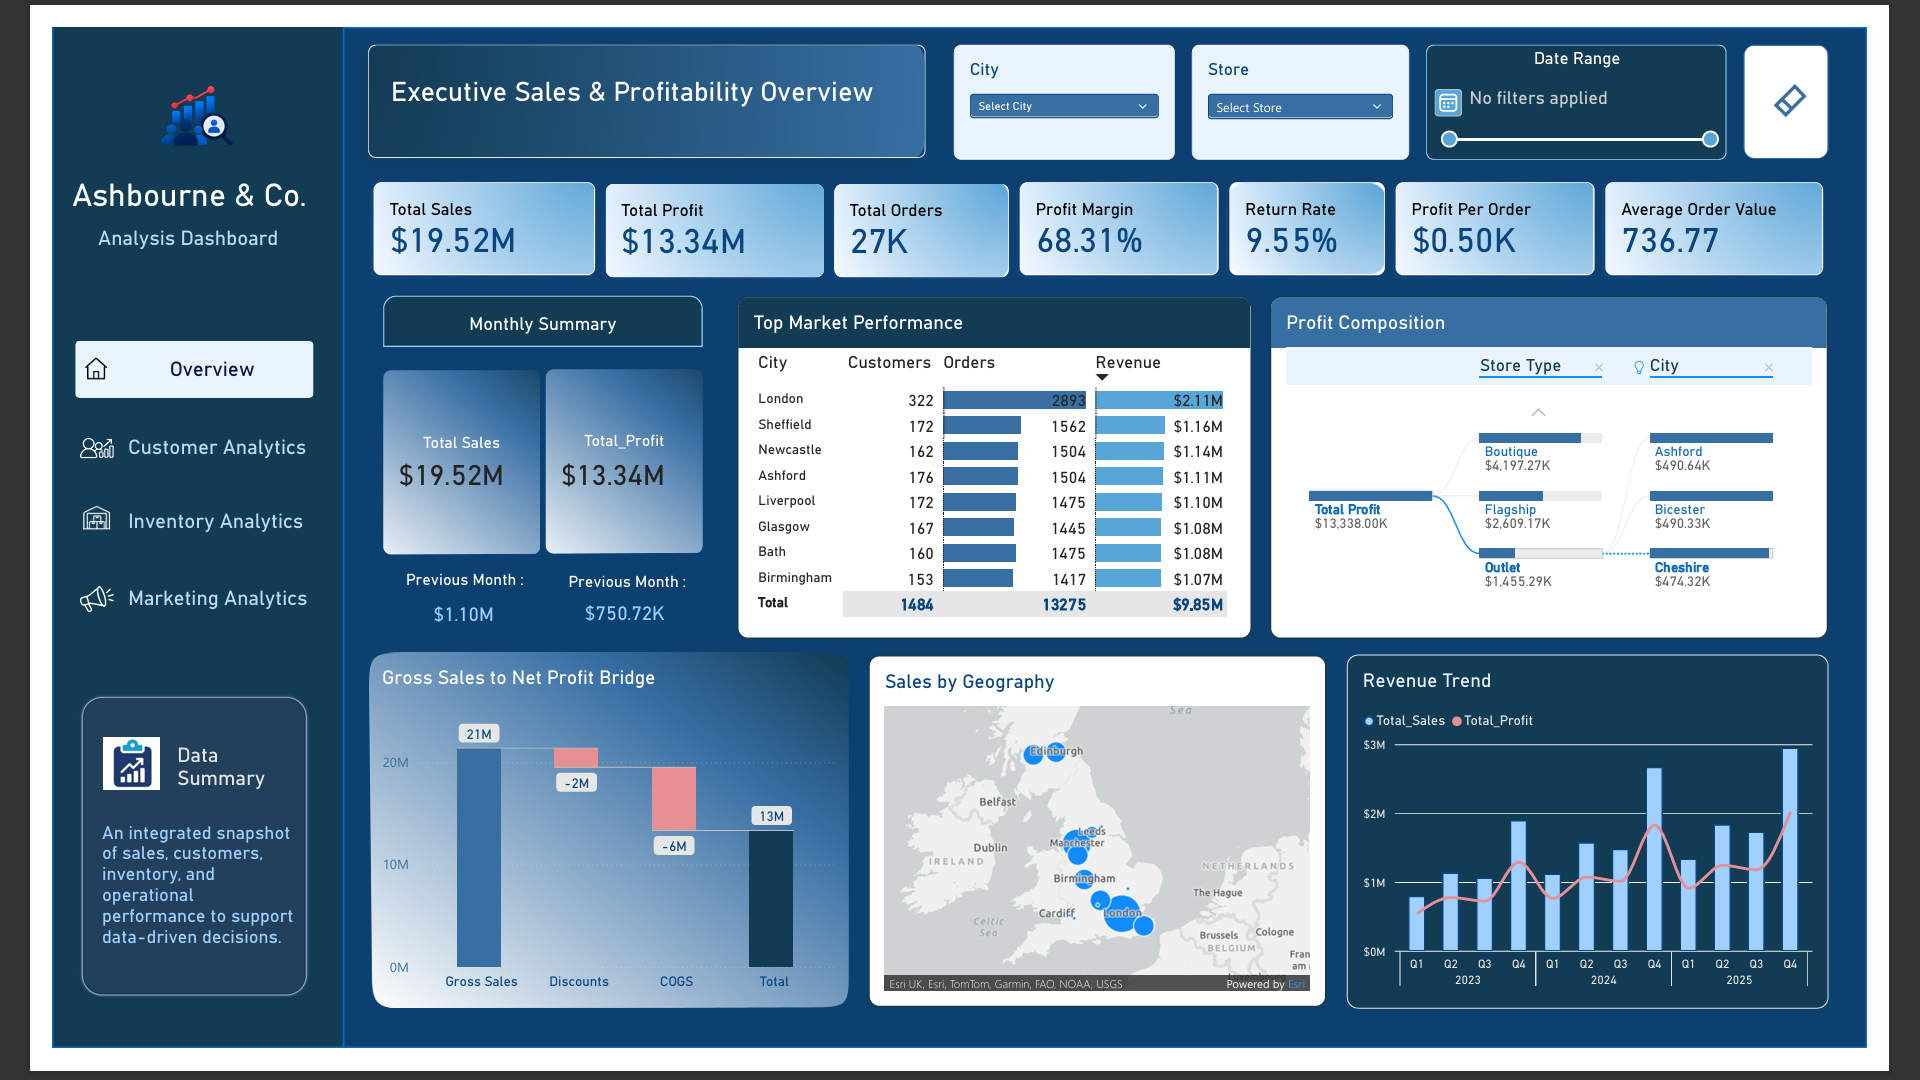

Layout of this report page (visuals, bound fields, positions):
{"tool":"powerbi","page":{"name":"Page 1","canvas":[1920,1080],"ordinal":0},"visuals":[{"type":"shape","box":[308,0,1612,1080],"z":0},{"type":"cardVisual","title":"Total Sales","fields":{"Data":["Measures_Table.Total_Sales"]},"box":[350,363,166.3,195.3],"z":0,"group":"g2"},{"type":"image","title":"bjkbkj","box":[334,18,590,120],"z":1000},{"type":"cardVisual","title":"Total Sales","fields":{"Data":["Measures_Table.Total_Profit"]},"box":[521.7,362,166.3,195.3],"z":1000,"group":"g2"},{"type":"cardVisual","fields":{"Data":["Measures_Table.Total_Sales"]},"box":[334,158,246,110],"z":2000},{"type":"shape","box":[360,564.7,146.7,36.6],"z":2000,"group":"g2"},{"type":"textbox","box":[358,51,532,51],"z":3000},{"type":"cardVisual","fields":{"Data":["Measures_Table.Total_Sales"]},"box":[384,593.4,98.9,44.6],"z":3000,"group":"g2"},{"type":"cardVisual","fields":{"Data":["Measures_Table.Total_Profit"]},"box":[580,160,242,110],"z":4000},{"type":"shape","box":[532,570.5,145,29.6],"z":4000,"group":"g2"},{"type":"cardVisual","fields":{"Data":["Measures_Table.Profit_Margin"]},"box":[1018,158,222,110],"z":5000},{"type":"cardVisual","fields":{"Data":["Measures_Table.Total_Profit"]},"box":[546.7,594.2,117.3,40.2],"z":5000,"group":"g2"},{"type":"cardVisual","fields":{"Data":["Measures_Table.Total_Orders"]},"box":[822,160,196,110],"z":6000},{"type":"cardVisual","fields":{"Data":["Measures_Table.Average_Order_Value"]},"box":[1638,158,242.5,110.4],"z":7000},{"type":"cardVisual","fields":{"Data":["Measures_Table.Return_Rate"]},"box":[1240,158,176,110],"z":8000},{"type":"lineClusteredColumnComboChart","title":"Revenue Trend","fields":{"Category":["Calendar.Year","Calendar.Quarter"],"Y":["Measures_Table.Total_Sales"],"Y2":["Measures_Table.Total_Profit"]},"box":[1369.9,664.1,510.3,374.6],"z":9000},{"type":"decompositionTreeVisual","title":"Profit Composition","fields":{"Analyze":["Measures_Table.Total_Profit"],"ExplainBy":["Ashbourne_Stores.store_type","Ashbourne_Stores.city"]},"box":[1288,284,592,364],"z":10000},{"type":"cardVisual","fields":{"Data":["Measures_Table.Profit_Per_Order"]},"box":[1416,158,222,110],"z":11000},{"type":"pivotTable","title":"Top Market Performance","fields":{"Rows":["Ashbourne_Customers.city"],"Values":["Measures_Table.Customer_Count","Measures_Table.Total_Orders","Measures_Table.Total_Sales"]},"box":[723.9,284.1,546.5,363.7],"z":12000},{"type":"esriVisual","title":"Sales by Geography","fields":{"Latitude":["Ashbourne_Stores.Latitude"],"Location":["Ashbourne_Stores.city"],"Longitude":["Ashbourne_Stores.Longitude"],"Size":["Measures_Table.Total_Sales"]},"box":[863.2,664.1,486,374],"z":13000},{"type":"shape","box":[0,0,307.6,1080.4],"z":14000},{"type":"actionButton","title":"Overview","box":[24,332,252,60],"z":14000,"group":"g1"},{"type":"image","box":[108,46,90,102],"z":15000},{"type":"image","box":[32,338,28,46],"z":15000,"group":"g1"},{"type":"textbox","box":[20,158,266,48],"z":16000},{"type":"actionButton","title":"Overview","box":[0,412,308,66],"z":16000,"group":"g1"},{"type":"textbox","box":[48,210,196,48],"z":17000},{"type":"image","box":[24.4,434.4,45.6,22.2],"z":17000,"group":"g1"},{"type":"group","id":"g1","title":"Group 1","box":[0,332,308,306],"z":18000},{"type":"actionButton","title":"Overview","box":[0,490,308,66],"z":18000,"group":"g1"},{"type":"image","box":[31.1,498.7,32.2,40],"z":19000,"group":"g1"},{"type":"shape","title":"Business Overview","box":[28,706,244,322],"z":19000},{"type":"actionButton","title":"Overview","box":[0,572,308,66],"z":20000,"group":"g1"},{"type":"textbox","box":[132,758,112,66],"z":20000},{"type":"image","box":[24,590,46,30],"z":21000,"group":"g1"},{"type":"image","box":[54,736,60,88],"z":21000},{"type":"listSlicer","fields":{"Values":["Ashbourne_Stores.city"]},"box":[954,18,234,122],"z":22000},{"type":"listSlicer","fields":{"Values":["Ashbourne_Stores.store_type"]},"box":[1206,18,230,122],"z":23000},{"type":"slicer","title":"Date Range","fields":{"Values":["Calendar.Date"]},"box":[1454,18,318,122],"z":24000},{"type":"image","box":[334.8,662.3,508.5,376.4],"z":25000},{"type":"waterfallChart","title":"Gross Sales to Net Profit Bridge","fields":{"Category":["Waterfall Categories.Category"],"Y":["Measures_Table.Waterfall Amount"]},"box":[333,662.3,513.9,374.6],"z":26000},{"type":"actionButton","box":[1789.8,18.1,90.5,121.2],"z":27000},{"type":"group","id":"g2","title":"Group 2","box":[350,362,338,276],"z":28000},{"type":"shape","box":[350,284,338,54],"z":29000}]}

Visuals, with their boxes in screenshot pixels (x1, y1, x2, y2), scaled from the page's 1920x1080 canvas onto the 1920x1080 screenshot:
shape: box(308, 0, 1919, 1079)
"Total Sales" cardVisual: box(350, 363, 516, 558)
"bjkbkj" image: box(334, 18, 924, 138)
"Total Sales" cardVisual: box(522, 362, 688, 557)
cardVisual - Measures_Table.Total_Sales: box(334, 158, 580, 268)
shape: box(360, 565, 507, 601)
textbox: box(358, 51, 890, 102)
cardVisual - Measures_Table.Total_Sales: box(384, 593, 483, 638)
cardVisual - Measures_Table.Total_Profit: box(580, 160, 822, 270)
shape: box(532, 570, 677, 600)
cardVisual - Measures_Table.Profit_Margin: box(1018, 158, 1240, 268)
cardVisual - Measures_Table.Total_Profit: box(547, 594, 664, 634)
cardVisual - Measures_Table.Total_Orders: box(822, 160, 1018, 270)
cardVisual - Measures_Table.Average_Order_Value: box(1638, 158, 1880, 268)
cardVisual - Measures_Table.Return_Rate: box(1240, 158, 1416, 268)
"Revenue Trend" lineClusteredColumnComboChart: box(1370, 664, 1880, 1039)
"Profit Composition" decompositionTreeVisual: box(1288, 284, 1880, 648)
cardVisual - Measures_Table.Profit_Per_Order: box(1416, 158, 1638, 268)
"Top Market Performance" pivotTable: box(724, 284, 1270, 648)
"Sales by Geography" esriVisual: box(863, 664, 1349, 1038)
shape: box(0, 0, 308, 1079)
"Overview" actionButton: box(24, 332, 276, 392)
image: box(108, 46, 198, 148)
image: box(32, 338, 60, 384)
textbox: box(20, 158, 286, 206)
"Overview" actionButton: box(0, 412, 308, 478)
textbox: box(48, 210, 244, 258)
image: box(24, 434, 70, 457)
"Group 1" group: box(0, 332, 308, 638)
"Overview" actionButton: box(0, 490, 308, 556)
image: box(31, 499, 63, 539)
"Business Overview" shape: box(28, 706, 272, 1028)
"Overview" actionButton: box(0, 572, 308, 638)
textbox: box(132, 758, 244, 824)
image: box(24, 590, 70, 620)
image: box(54, 736, 114, 824)
listSlicer - Ashbourne_Stores.city: box(954, 18, 1188, 140)
listSlicer - Ashbourne_Stores.store_type: box(1206, 18, 1436, 140)
"Date Range" slicer: box(1454, 18, 1772, 140)
image: box(335, 662, 843, 1039)
"Gross Sales to Net Profit Bridge" waterfallChart: box(333, 662, 847, 1037)
actionButton: box(1790, 18, 1880, 139)
"Group 2" group: box(350, 362, 688, 638)
shape: box(350, 284, 688, 338)
